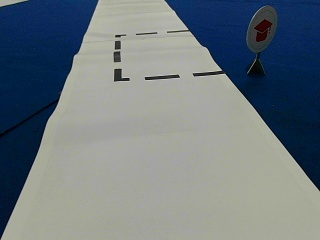school: (245, 6, 276, 51)
